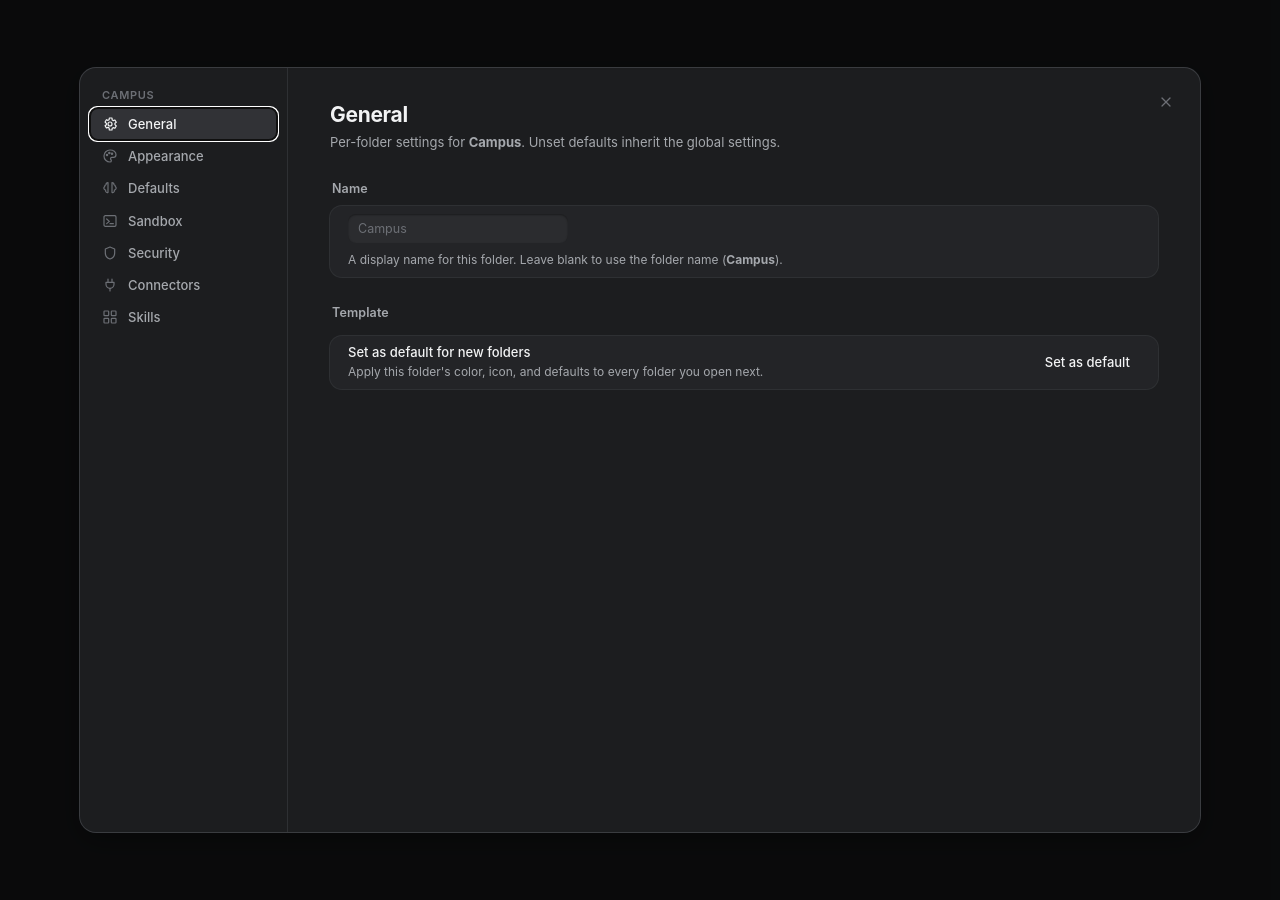
Scenario: ProjectSettingsModal — Sandbox page › non-mac platform disables both toggles and shows the requires-macOS note
Click the button "Sandbox": (184, 221) x1=90 y1=205 x2=277 y2=237
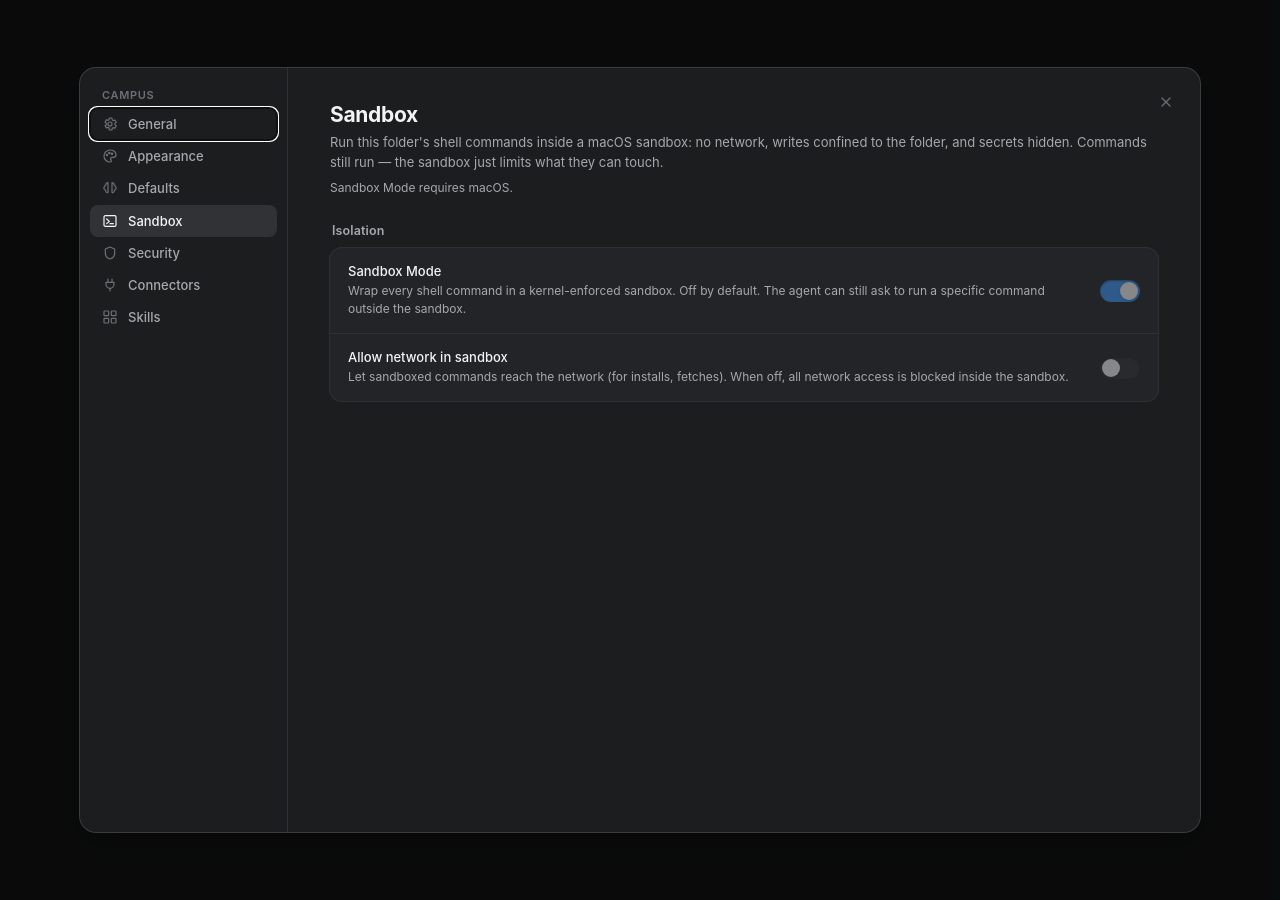
Expected: the switch named "Enable sandbox mode" is disabled, x1=1100 y1=280 x2=1140 y2=302
Expected: the switch named "Allow network in sandbox" is disabled, x1=1100 y1=356 x2=1140 y2=378
Expected: the text "Sandbox Mode requires macOS." is shown, x1=330 y1=180 x2=513 y2=195
